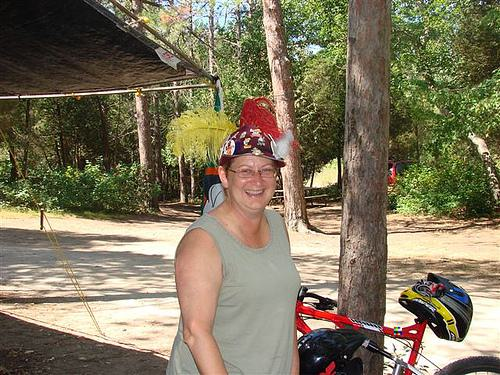car: (297, 287, 500, 375)
person: (168, 100, 301, 375)
